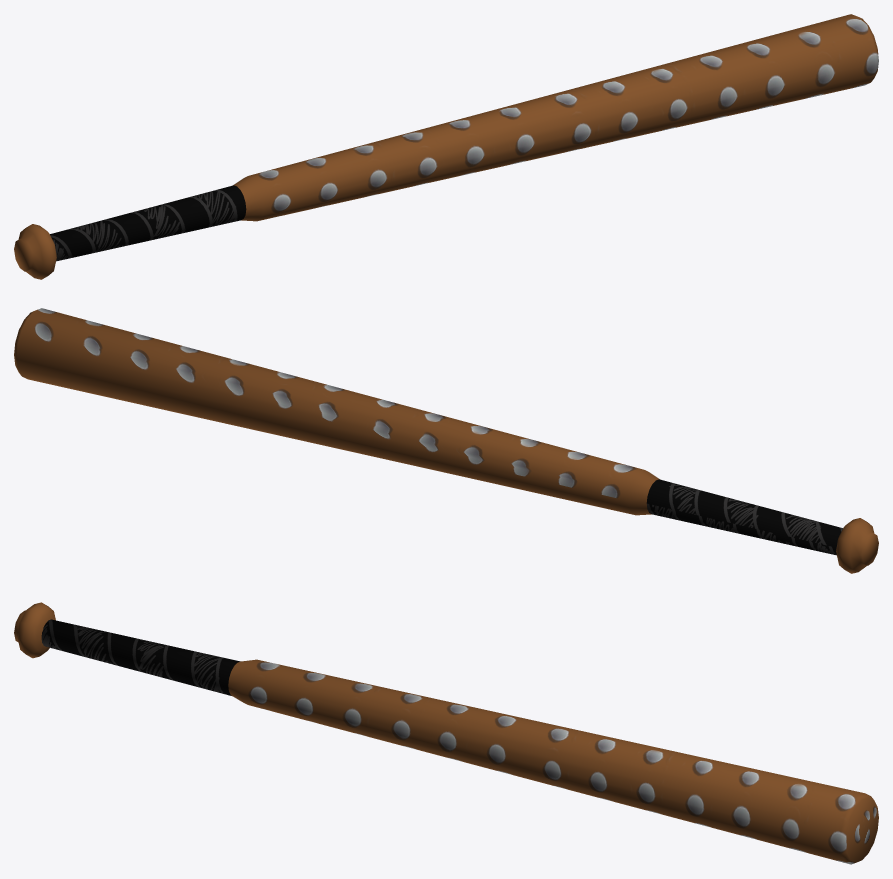
Rendered from Kanabo.fbx.
3 views of the same model, one above another, from view 1: azimuth 30°, elevation 25°; view 2: azimuth 150°, elevation 25°; view 3: azimuth 330°, elevation 25° (orthographic).
Visible parts, largest first — view 1: Kanabo; view 2: Kanabo; view 3: Kanabo.
Boxes of the visible parts, <box> form: Kanabo: <box>14,14,878,279</box>; Kanabo: <box>14,308,878,573</box>; Kanabo: <box>14,602,878,864</box>.
Bounding box in the file's own units: 463 × 34.83 × 34.83.
